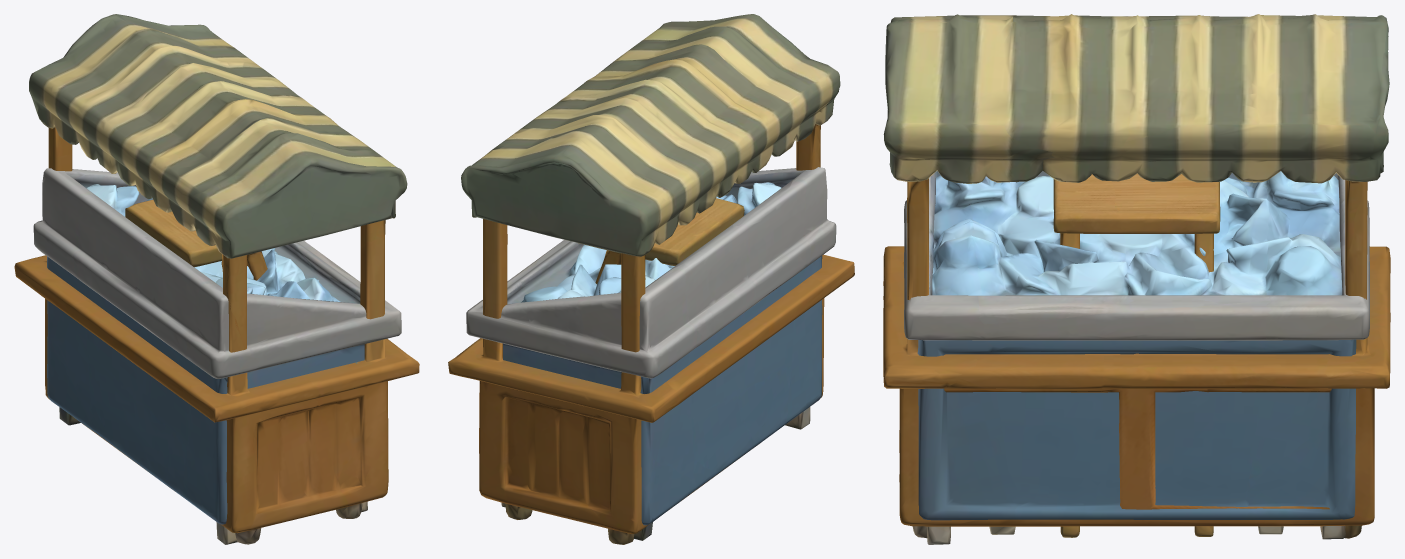
File: presentoirs.glb
The picture shows the model from 3 angles, left to right: view 1: azimuth 30°, elevation 25°; view 2: azimuth 150°, elevation 25°; view 3: azimuth 270°, elevation 25°; orthographic projection. The views are drawn at different scales.
Parts seen in each view (by area): view 1: etal-de-marche, etal-de-la-criee, presentoir-a-gradins; view 2: etal-de-marche, etal-de-la-criee, presentoir-a-gradins; view 3: etal-de-marche, etal-de-la-criee, presentoir-a-gradins.
Boxes of the visible parts, x1,y1,x2,y2 form: etal-de-marche: (14,14,419,544); etal-de-la-criee: (33,168,401,544); presentoir-a-gradins: (125,199,267,280); etal-de-marche: (448,14,854,544); etal-de-la-criee: (466,167,836,540); presentoir-a-gradins: (578,198,744,284); etal-de-marche: (883,14,1390,538); etal-de-la-criee: (904,171,1369,544); presentoir-a-gradins: (1053,173,1220,537).
Bounding box in the file's own units: 1.28 × 2.3 × 2.18.
1 material, 1 textured.
